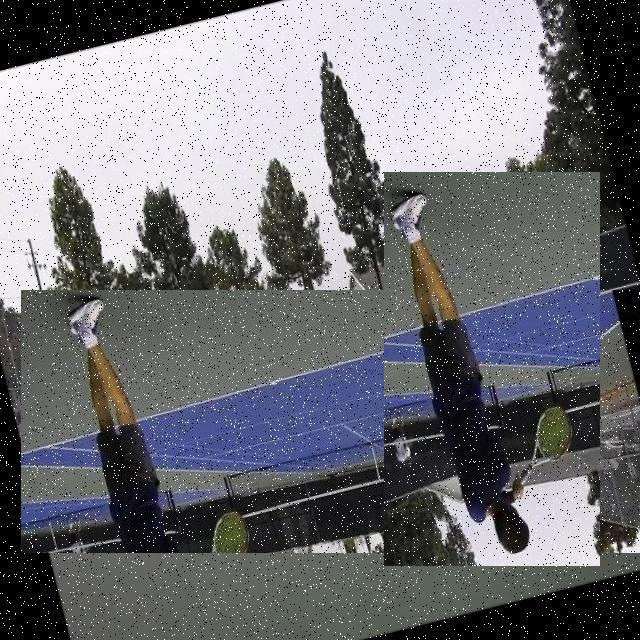court: (21, 290, 640, 553)
net: (104, 304, 440, 448)
player: (384, 172, 600, 566)
